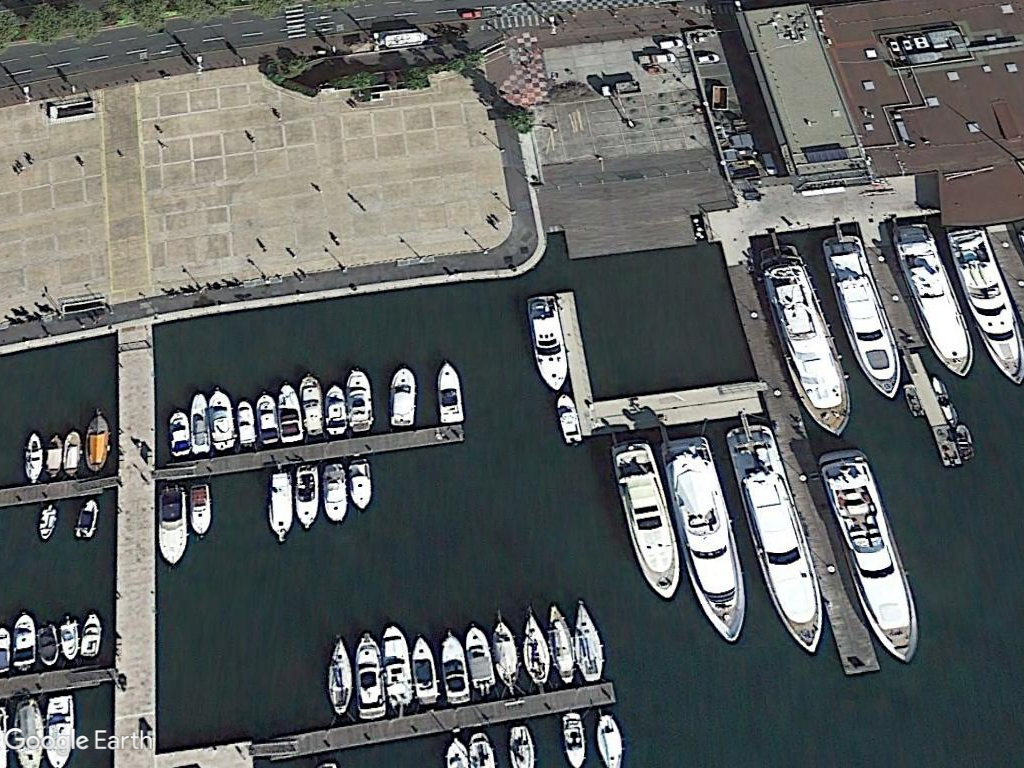boat: (723, 420, 824, 657), (817, 447, 921, 665), (658, 430, 748, 647), (754, 239, 853, 436), (889, 218, 976, 379), (822, 229, 902, 401), (943, 225, 1024, 388), (607, 433, 681, 605), (525, 291, 570, 396), (570, 595, 611, 686), (377, 617, 413, 718), (352, 624, 385, 724), (544, 595, 579, 688), (518, 602, 553, 693), (489, 609, 521, 697), (439, 625, 472, 709), (412, 625, 443, 714), (158, 482, 190, 566), (325, 626, 352, 723), (44, 692, 78, 768), (464, 618, 495, 700), (433, 357, 468, 427), (267, 465, 295, 548), (343, 364, 375, 436), (386, 359, 418, 430), (591, 707, 628, 768), (296, 373, 328, 442), (207, 387, 239, 455), (82, 408, 113, 475), (295, 461, 322, 536), (186, 476, 218, 539), (275, 378, 303, 447), (186, 387, 214, 456), (323, 458, 350, 528), (558, 708, 588, 768), (553, 392, 583, 449), (254, 386, 280, 450), (12, 610, 38, 674), (22, 423, 47, 489), (323, 379, 350, 440), (164, 405, 192, 462), (79, 602, 103, 664), (350, 456, 375, 515), (235, 393, 260, 451), (58, 608, 82, 667), (61, 426, 85, 479), (43, 427, 65, 484), (38, 615, 61, 669), (74, 494, 99, 542), (36, 499, 59, 546)
